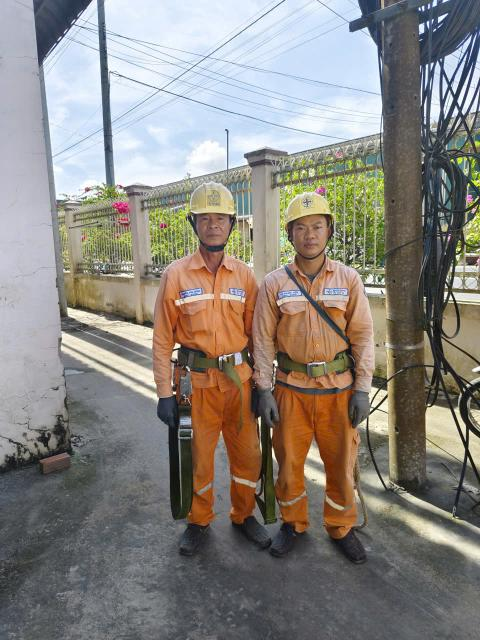gloves: (151, 387, 193, 438), (341, 388, 376, 432), (244, 380, 263, 431), (259, 385, 279, 430)
harness: (178, 343, 264, 376), (276, 348, 361, 377)
helmet: (172, 177, 250, 225), (279, 189, 345, 224)
shoes: (257, 508, 311, 553), (329, 512, 372, 564), (228, 503, 269, 550), (173, 514, 209, 558)
